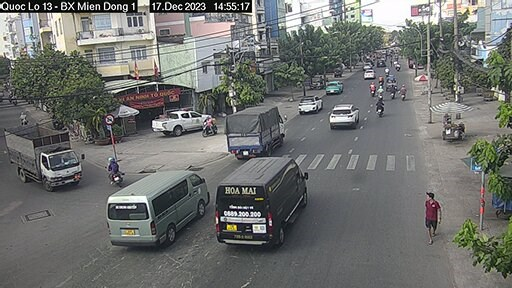car: (212, 150, 306, 258), (107, 176, 216, 254), (151, 110, 225, 135), (329, 98, 357, 136), (299, 88, 326, 110)
truck: (1, 117, 82, 208), (205, 96, 299, 158)
